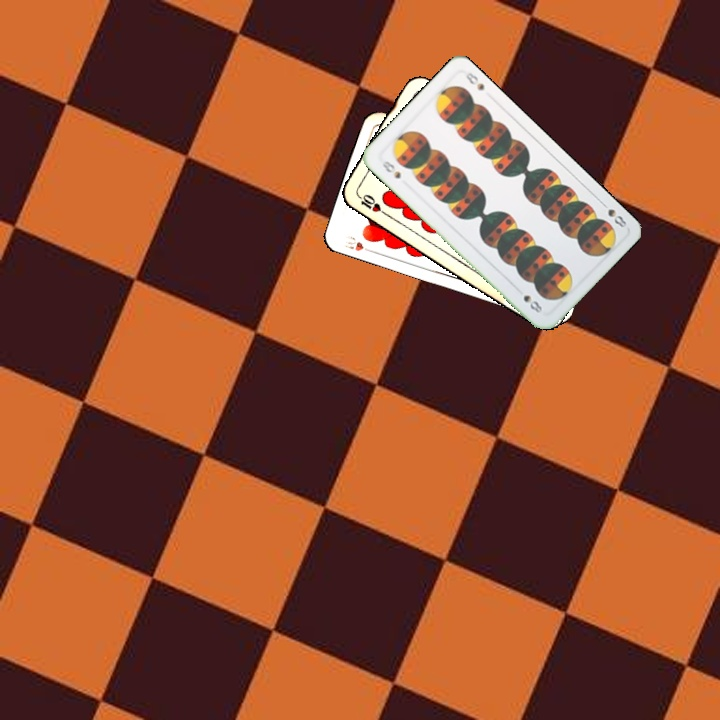H10: (352, 189, 388, 217), (339, 231, 377, 255)
S8: (596, 197, 629, 230), (378, 156, 403, 182)
